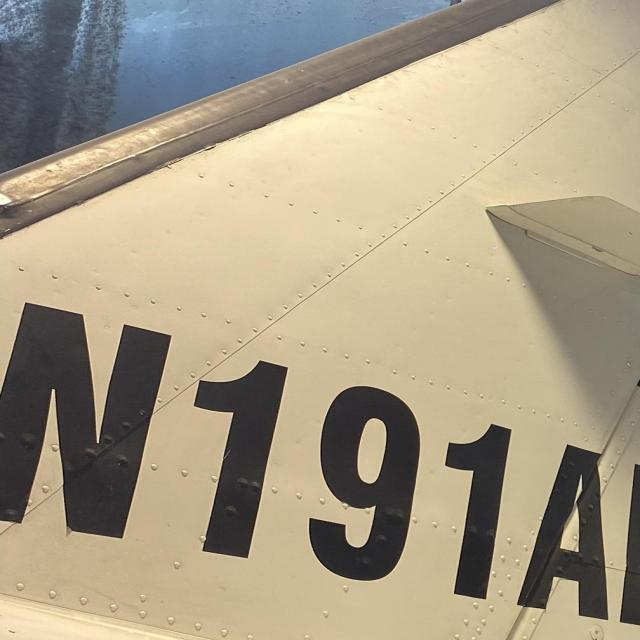Paint-off: (622, 172, 640, 212), (591, 245, 604, 253), (627, 231, 634, 235)
